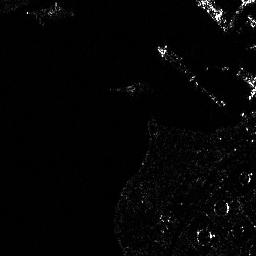ship: (152, 44, 195, 81), (191, 76, 226, 107)
